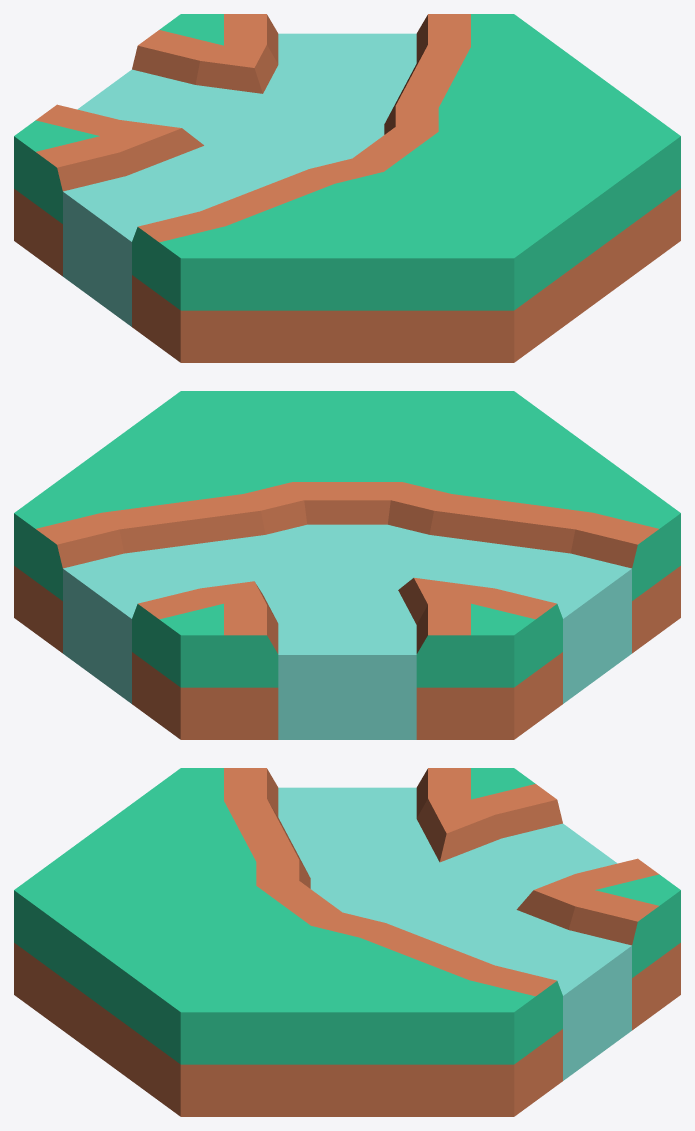
The model's file is river_intersectionA.fbx.
3 renders of one model, top to bottom at view 1: azimuth 30°, elevation 25°; view 2: azimuth 150°, elevation 25°; view 3: azimuth 270°, elevation 25°, orthographic.
Visible parts, largest first — view 1: river_intersectionA; view 2: river_intersectionA; view 3: river_intersectionA.
Part boxes in pixels (x1,y1,x2,y2): river_intersectionA: (14,14,680,362); river_intersectionA: (14,391,680,739); river_intersectionA: (14,768,680,1116).
Bounding box in the file's own units: 10 × 2 × 11.55.
